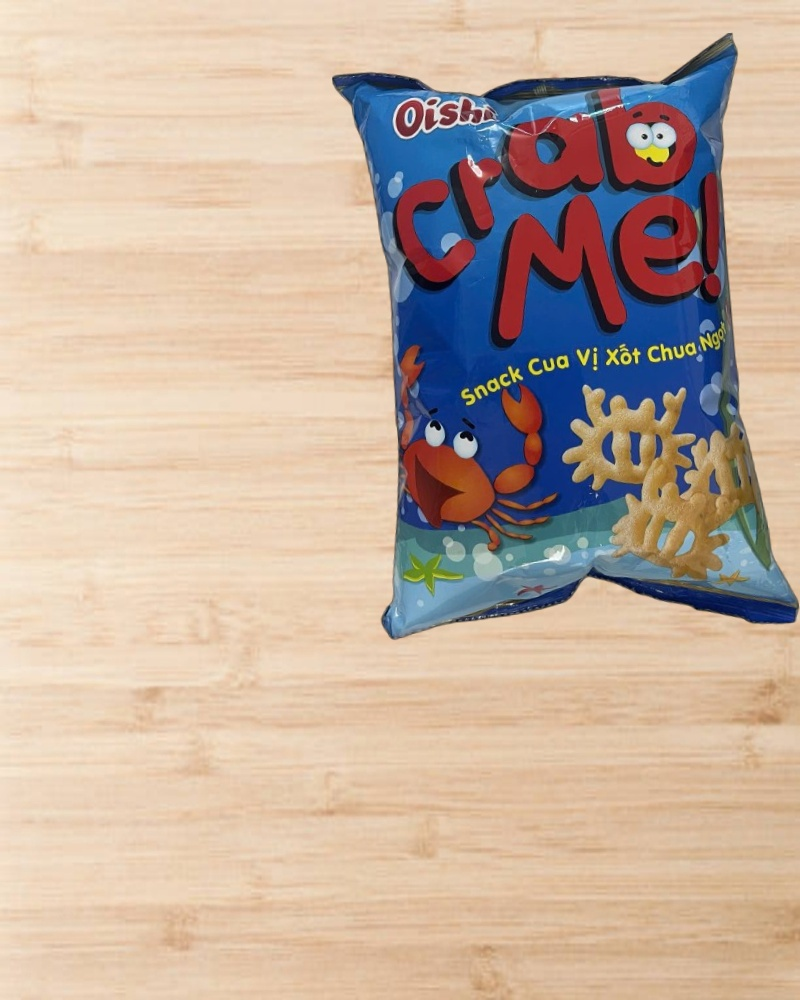Snack cua: (332, 32, 800, 653)
